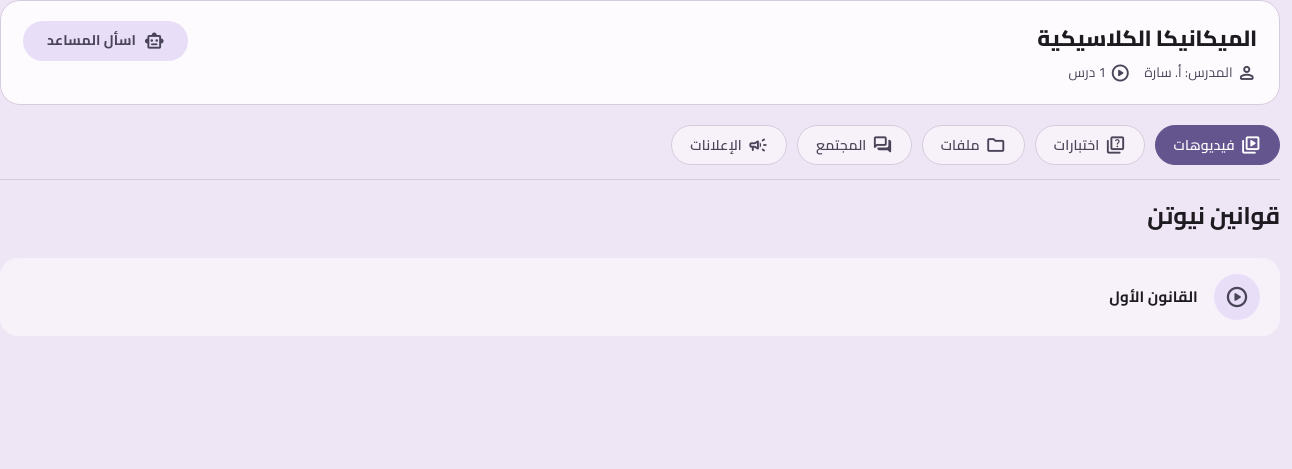
CourseDetailView › switches to the files tab and shows StudentDocumentsList, replacing the videos view
The image size is (1292, 469).
Click the tab "ملفات". click: x=973, y=145
box: [922,125,1025,165]
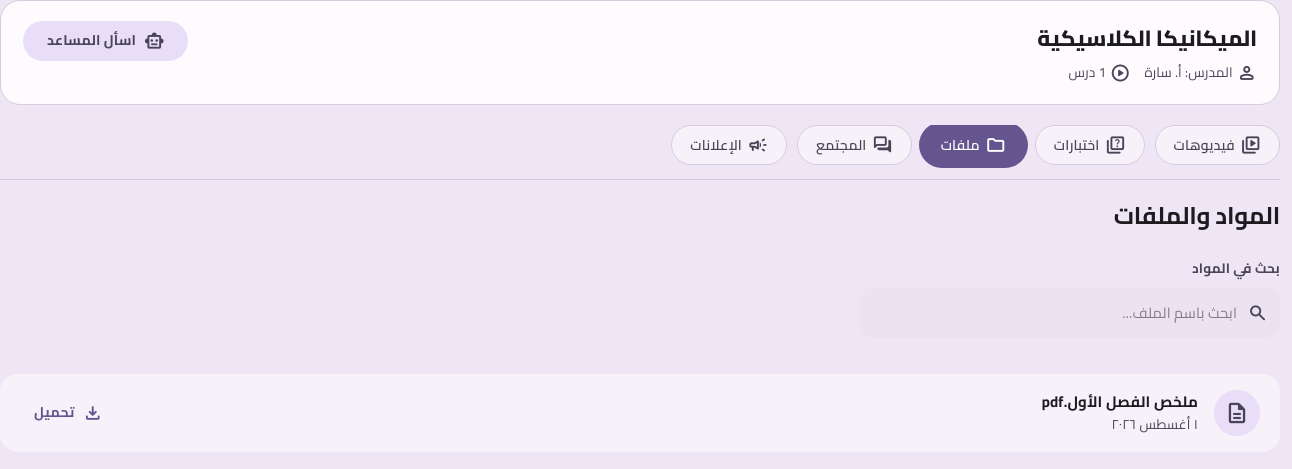
Now the text "ملخص الفصل الأول.pdf" is shown, box [1042,388,1198,416]
Click the tab "فيديوهات". click: x=1217, y=145
box: [1155,125,1280,165]
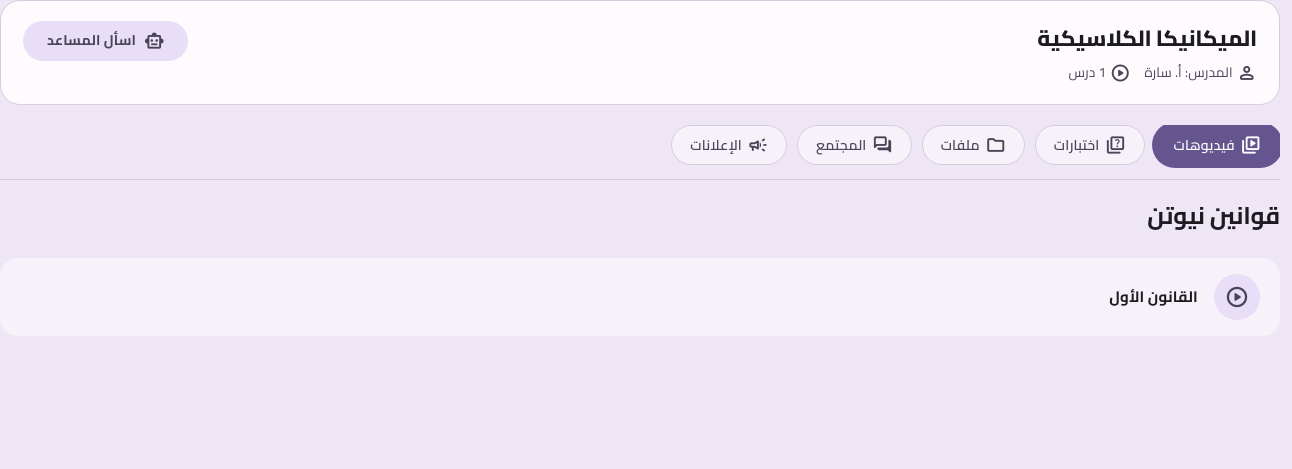
Now the link "القانون الأول" is shown, box [0,258,1280,336]
